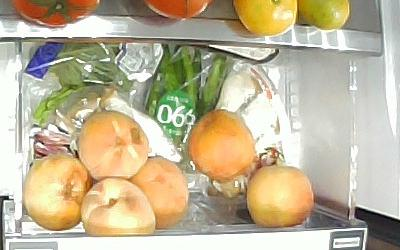peach: (22, 156, 91, 230), (186, 109, 257, 179), (79, 109, 147, 180), (246, 164, 316, 228), (80, 178, 156, 236), (133, 157, 188, 231)
